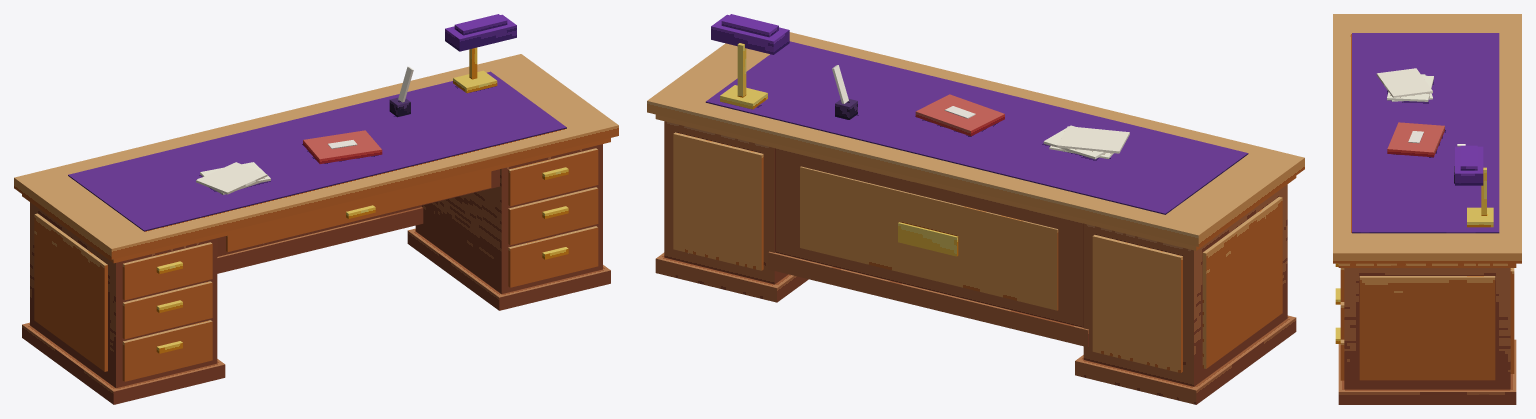
Rendered from desk.gltf.
3 renders of one model, left to right at view 1: azimuth 30°, elevation 25°; view 2: azimuth 150°, elevation 25°; view 3: azimuth 270°, elevation 25°, orthographic. The views are drawn at different scales.
Parts seen in each view (by area): view 1: leather_inlay, top, pedestal_right, side_panel_left, pedestal_left, drawer_centre, front_panel_base, plinth_right, plinth_left, drawer1_right, drawer1_left, drawer3_right (+10 smaller); view 2: leather_inlay, top, front_panel_inset, front_panel, front_inset_right, front_inset_left, side_panel_left, pedestal_left, front_panel_base, pedestal_right, plinth_left, top_mould (+7 smaller); view 3: leather_inlay, top, side_panel_right, pedestal_right, plinth_right, prop_folder, prop_paper3, top_mould, prop_lamp_shade, front_inset_right, brass_lamp_base, prop_lamp_shade_top (+4 smaller).
Part boxes in pixels (x1,y1,x2,y2): leather_inlay: (68,71,566,231); top: (14,54,618,259); pedestal_right: (415,144,602,294); side_panel_left: (34,213,107,371); pedestal_left: (30,202,217,388); drawer_centre: (226,171,491,252); front_panel_base: (217,207,423,273); plinth_right: (407,228,610,310); plinth_left: (22,322,225,404); drawer1_right: (508,226,598,287); drawer1_left: (122,320,212,381); drawer3_right: (508,148,598,206); leather_inlay: (705,41,1248,214); top: (647,32,1304,246); front_panel_inset: (800,166,1058,310); front_panel: (775,148,1083,327); front_inset_right: (673,132,763,270); front_inset_left: (1092,235,1182,372); side_panel_left: (1202,197,1282,368); pedestal_left: (1083,184,1287,386); front_panel_base: (768,251,1088,347); pedestal_right: (664,121,788,284); plinth_left: (1075,315,1296,404); top_mould: (655,114,1296,250); leather_inlay: (1352,33,1499,233); top: (1333,14,1521,263); side_panel_right: (1359,276,1495,380); pedestal_right: (1344,268,1510,389); plinth_right: (1338,339,1516,404); prop_folder: (1387,122,1444,157); prop_paper3: (1376,68,1432,97); top_mould: (1338,263,1516,267); prop_lamp_shade: (1455,146,1483,185); front_inset_right: (1510,268,1514,373); brass_lamp_base: (1467,207,1493,227); prop_lamp_shade_top: (1460,145,1477,170).
Size of the model in its own units: 3 by 1.28 by 1.
Materials: 3 (3 with a texture image).
